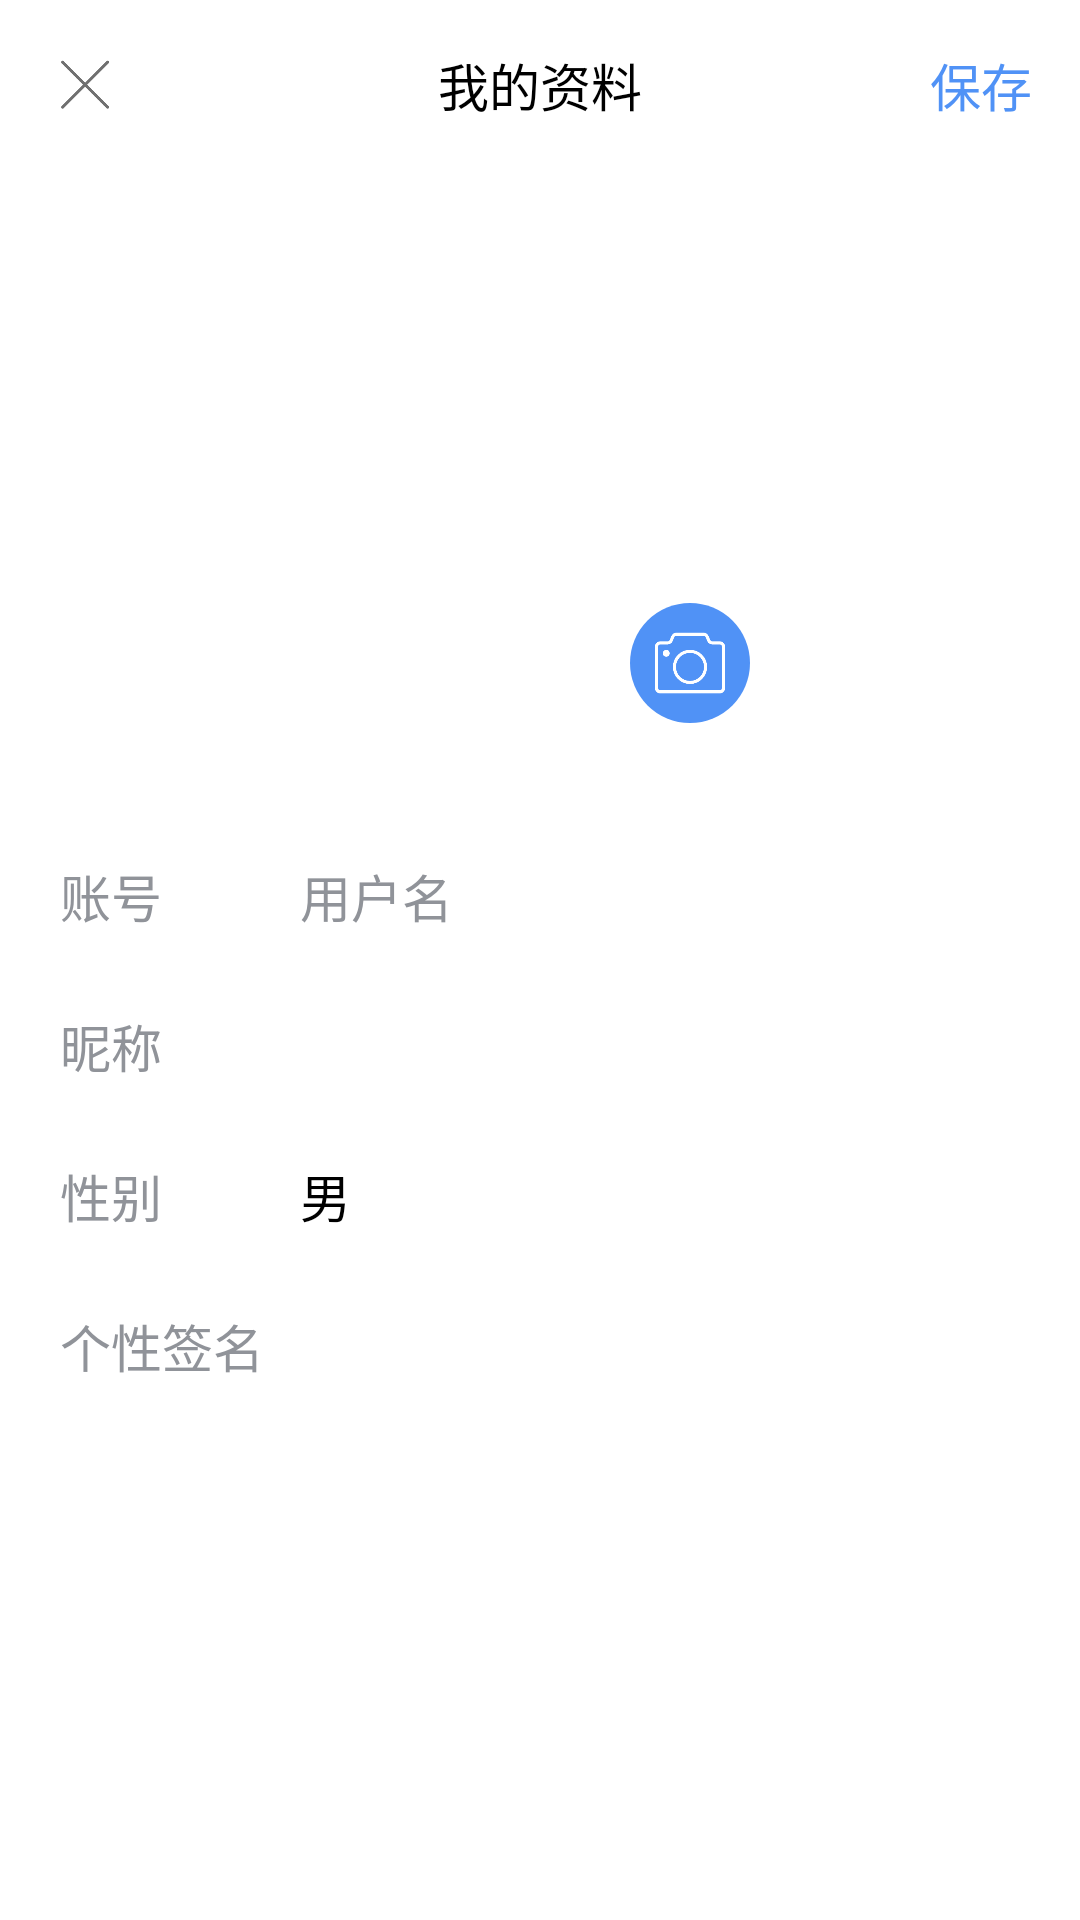

Where to tap for icons on this 1080w x 1920h app screen, as (x=x, y=y):
camera: (x=690, y=663)
close: (x=85, y=84)
